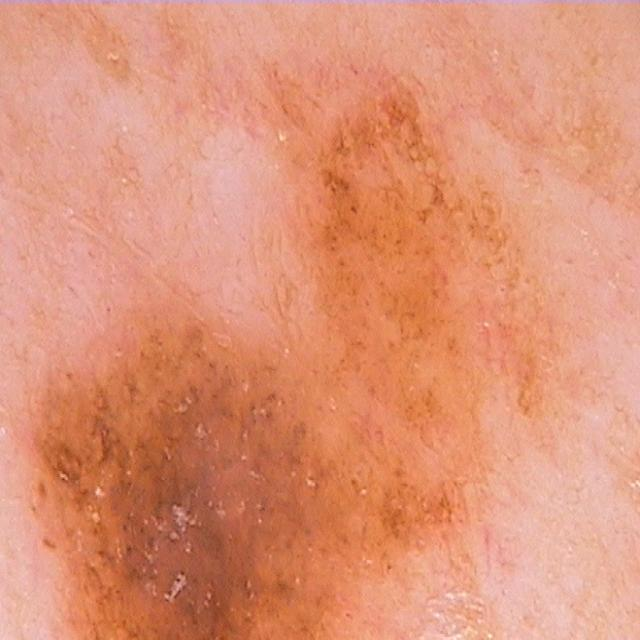Melanoma: (28, 280, 317, 640), (313, 99, 564, 360)
